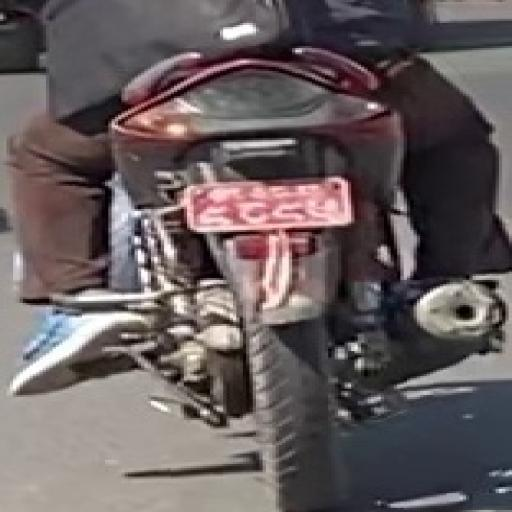license_plate: (179, 174, 357, 237)
